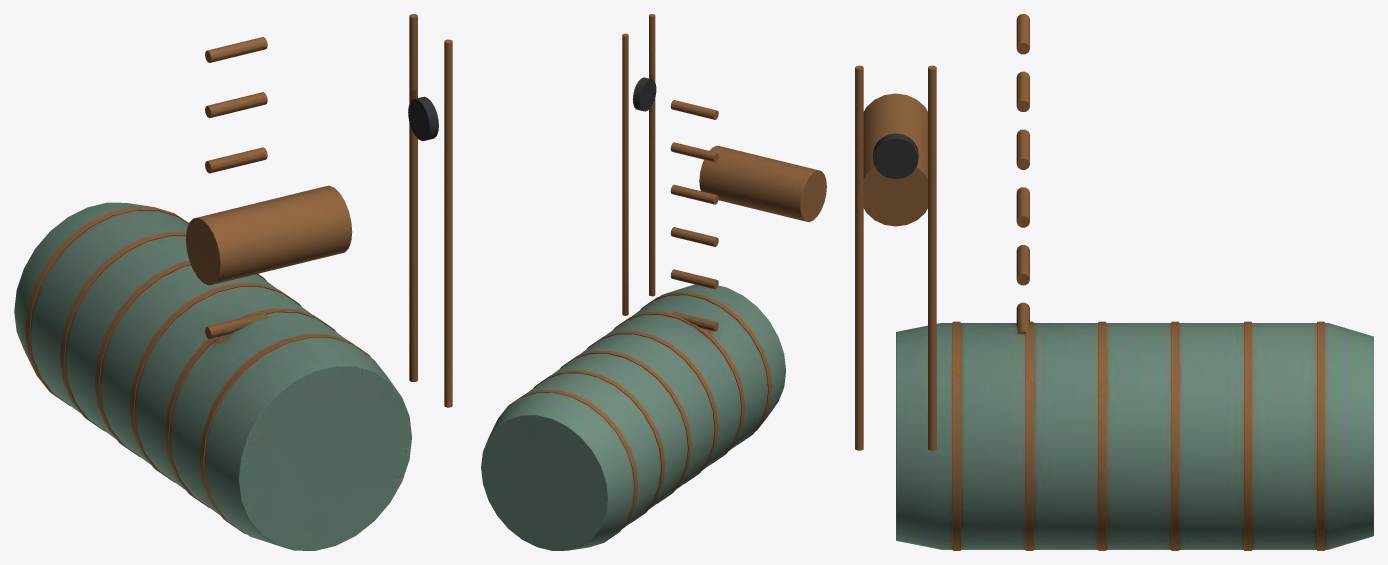
Rendered from LV_coolant_tank.glb.
3 views of the same model, side by side, from view 1: azimuth 30°, elevation 25°; view 2: azimuth 150°, elevation 25°; view 3: azimuth 270°, elevation 25° (orthographic). The views are drawn at different scales.
Parts seen in each view (by area): view 1: LV_coolant_tank; view 2: LV_coolant_tank; view 3: LV_coolant_tank.
Boxes of the visible parts, x1=… form: LV_coolant_tank: x1=14, y1=14, x2=452, y2=550; LV_coolant_tank: x1=481, y1=14, x2=826, y2=550; LV_coolant_tank: x1=855, y1=14, x2=1373, y2=550.
Size of the model in its own units: 1.23 by 2.55 by 2.28.
1 material, 1 textured.
